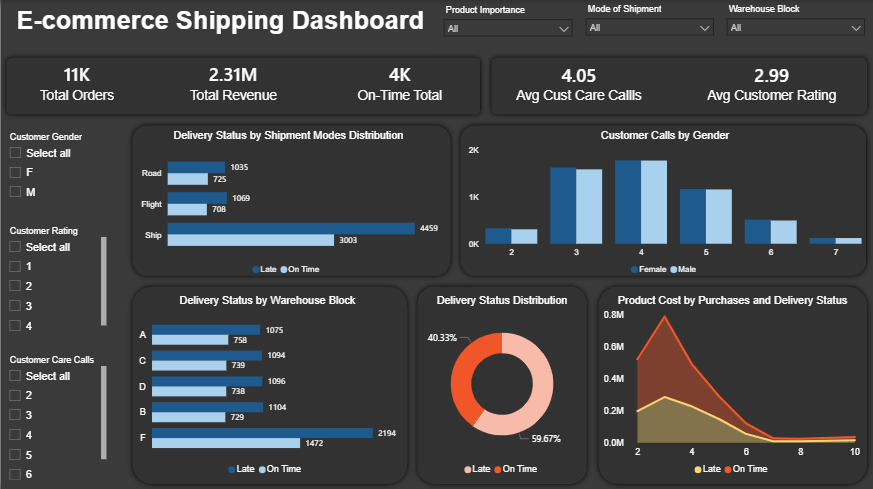

Layout of this report page (visuals, bound fields, positions):
{"tool":"powerbi","page":{"name":"ecommerce_performance_analysis","canvas":[1280,720],"ordinal":0},"visuals":[{"type":"group","id":"g1","title":"Group 1","box":[0,76.9,1280,643.1],"z":0},{"type":"shape","box":[184.6,176.9,483.1,236.9],"z":0,"group":"g1"},{"type":"cardVisual","fields":{"Data":["_Measures.Total Orders"]},"box":[0,64.6,223.1,112.3],"z":1000},{"type":"shape","box":[667.7,176.9,612.3,236.9],"z":1000,"group":"g1"},{"type":"cardVisual","fields":{"Data":["_Measures.Total Revenue"]},"box":[223.1,64.6,236.9,112.3],"z":2000},{"type":"shape","box":[184.6,413.8,420,306.2],"z":2000,"group":"g1"},{"type":"cardVisual","fields":{"Data":["_Measures.On-Time Total"]},"box":[460,64.6,252.3,112.3],"z":3000},{"type":"shape","box":[604.6,413.8,264.6,306.2],"z":3000,"group":"g1"},{"type":"cardVisual","fields":{"Data":["_Measures.Avg Cust Care Callls"]},"box":[712.3,60,273.8,123.1],"z":4000},{"type":"shape","box":[869.2,413.8,410.8,306.2],"z":4000,"group":"g1"},{"type":"textbox","title":"E-commerce Shipping Dashboard","box":[16.9,3.1,616.9,73.8],"z":5000},{"type":"shape","box":[0,76.9,712.3,100],"z":5000,"group":"g1"},{"type":"cardVisual","fields":{"Data":["_Measures.Avg Customer Rating"]},"box":[986.2,60,293.8,123.1],"z":6000},{"type":"shape","box":[712.3,76.9,567.7,100],"z":6000,"group":"g1"},{"type":"clusteredBarChart","title":"Delivery Status by Shipment Modes Distribution","fields":{"Category":["Ecommerce Shipping Data.Mode_of_Shipment"],"Y":["_Measures.Late Delivery Total","_Measures.On-Time Total"]},"box":[196.9,189.2,450.8,224.6],"z":7000},{"type":"clusteredColumnChart","title":"Customer Calls by Gender","fields":{"Category":["Ecommerce Shipping Data.Customer_care_calls"],"Y":["_Measures.Female Customers","_Measures.Male Customers"]},"box":[681.5,189.2,587.7,224.6],"z":8000},{"type":"clusteredBarChart","title":"Delivery Status by Warehouse Block","fields":{"Y":["_Measures.Late Delivery Total","_Measures.On-Time Total"],"Category":["Ecommerce Shipping Data.Warehouse_block"]},"box":[196.9,432.3,389.2,276.9],"z":9000},{"type":"donutChart","title":"Delivery Status Distribution","fields":{"Y":["_Measures.Late Delivery Total","_Measures.On-Time Total"]},"box":[604.6,432.3,264.6,276.9],"z":10000},{"type":"stackedAreaChart","title":"Product Cost by Purchases and Delivery Status","fields":{"Category":["Ecommerce Shipping Data.Prior_purchases"],"Y":["_Measures.Total Revenue"],"Series":["Ecommerce Shipping Data.Delivery Status"]},"box":[880,432.3,389.2,276.9],"z":11000},{"type":"slicer","title":"Customer Care Calls","fields":{"Values":["Ecommerce Shipping Data.Customer_care_calls"]},"box":[0,515.4,159.8,194.2],"z":12000},{"type":"slicer","title":"Customer Care Calls","fields":{"Values":["Ecommerce Shipping Data.Customer_rating"]},"box":[0,325.6,159.8,177.8],"z":13000},{"type":"slicer","title":"Customer Care Calls","fields":{"Values":["Ecommerce Shipping Data.Gender"]},"box":[0,188.2,159.8,122.5],"z":14000},{"type":"slicer","fields":{"Values":["Ecommerce Shipping Data.Product_importance"]},"box":[640,1.5,209.2,76.9],"z":16000},{"type":"slicer","fields":{"Values":["Ecommerce Shipping Data.Mode_of_Shipment"]},"box":[849.2,0,207.7,76.9],"z":17000},{"type":"slicer","fields":{"Values":["Ecommerce Shipping Data.Warehouse_block"]},"box":[1056.9,0,223.1,76.9],"z":18000}]}

Visuals, with their boxes in screenshot pixels (x1, y1, x2, y2), scaled from the page's 1280x720 canvas onto the 873x489 screenshot:
"Group 1" group: 0/52/872/488
shape: 126/120/455/281
cardVisual - _Measures.Total Orders: 0/44/152/120
shape: 455/120/872/281
cardVisual - _Measures.Total Revenue: 152/44/314/120
shape: 126/281/412/488
cardVisual - _Measures.On-Time Total: 314/44/486/120
shape: 412/281/593/488
cardVisual - _Measures.Avg Cust Care Callls: 486/41/673/124
shape: 593/281/872/488
"E-commerce Shipping Dashboard" textbox: 12/2/432/52
shape: 0/52/486/120
cardVisual - _Measures.Avg Customer Rating: 673/41/872/124
shape: 486/52/872/120
"Delivery Status by Shipment Modes Distribution" clusteredBarChart: 134/128/442/281
"Customer Calls by Gender" clusteredColumnChart: 465/128/866/281
"Delivery Status by Warehouse Block" clusteredBarChart: 134/294/400/482
"Delivery Status Distribution" donutChart: 412/294/593/482
"Product Cost by Purchases and Delivery Status" stackedAreaChart: 600/294/866/482
"Customer Care Calls" slicer: 0/350/109/482
"Customer Care Calls" slicer: 0/221/109/342
"Customer Care Calls" slicer: 0/128/109/211
slicer - Ecommerce Shipping Data.Product_importance: 436/1/579/53
slicer - Ecommerce Shipping Data.Mode_of_Shipment: 579/0/721/52
slicer - Ecommerce Shipping Data.Warehouse_block: 721/0/872/52
